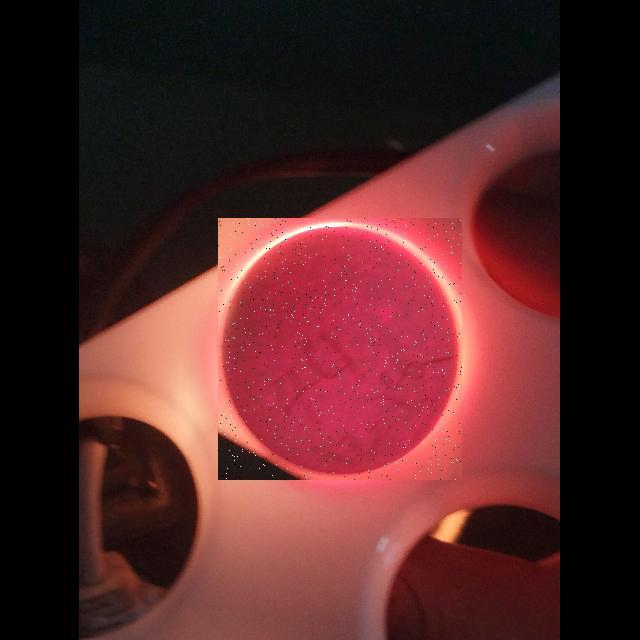Infertile: (218, 218, 462, 480)
